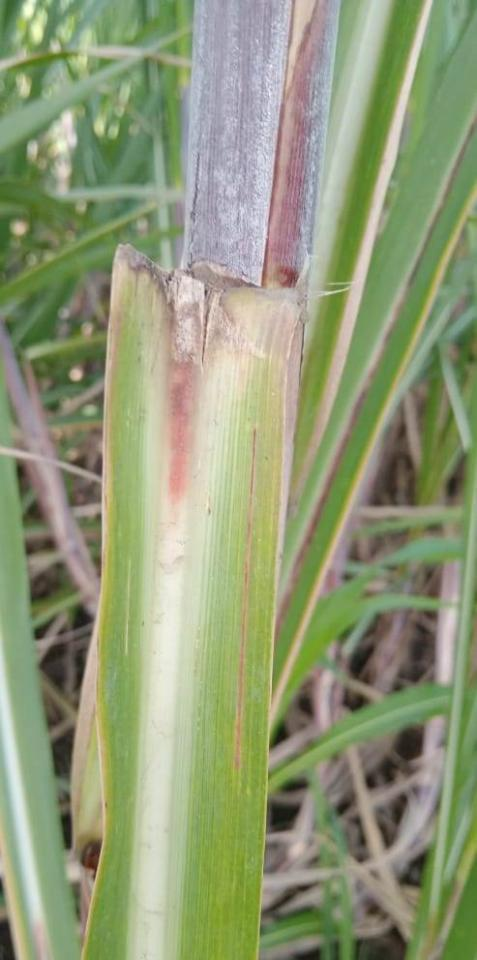RedRot: (162, 350, 199, 509)
